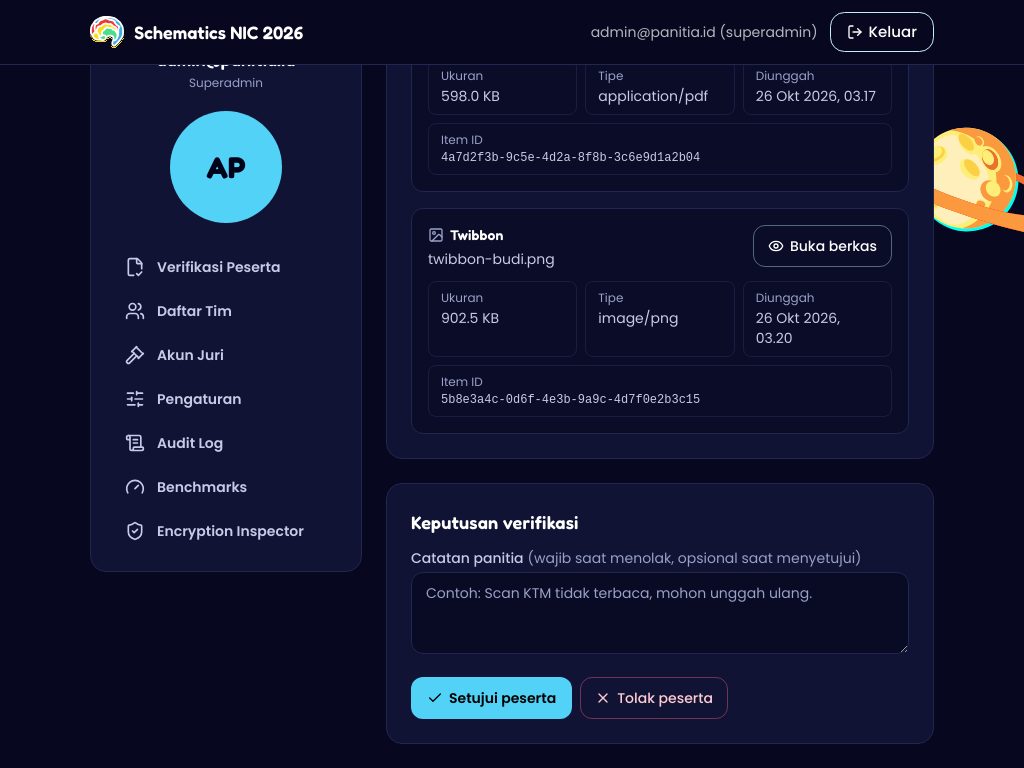
Test: Superadmin participant verification › refuses to reject without a note before any request is sent
(page scrolled)
Click the button with test id "reject-btn": (654, 698) [580, 677, 728, 719]
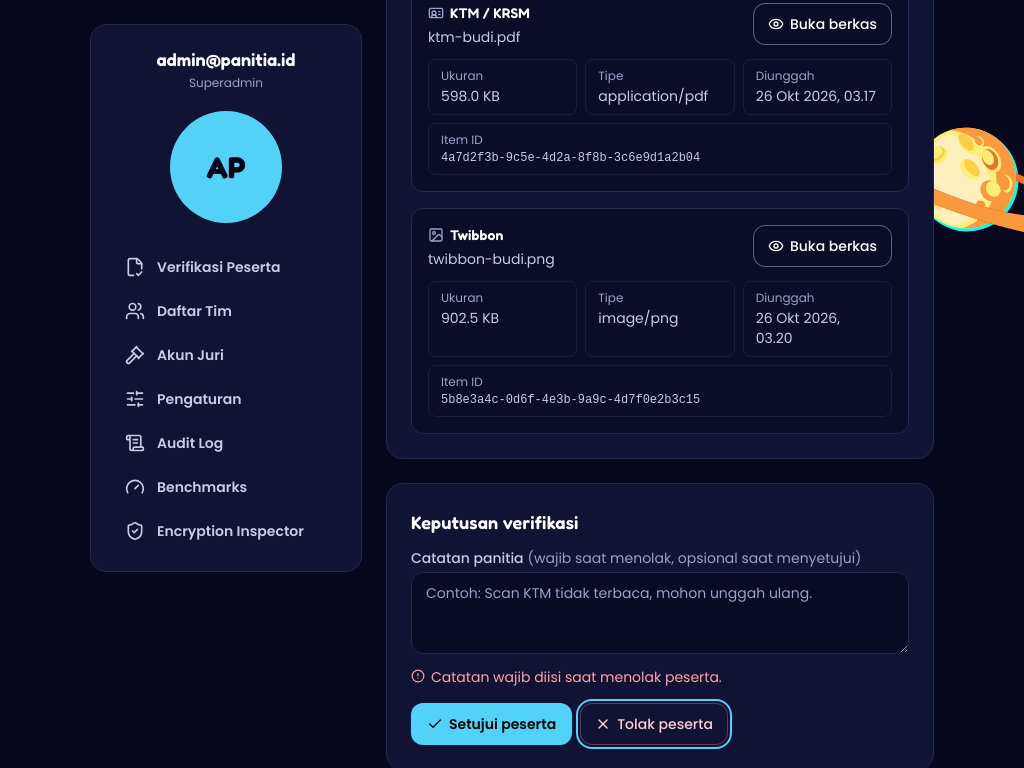
Check: the message with test id "note-error" shows "wajib", box [431, 667, 722, 687]
